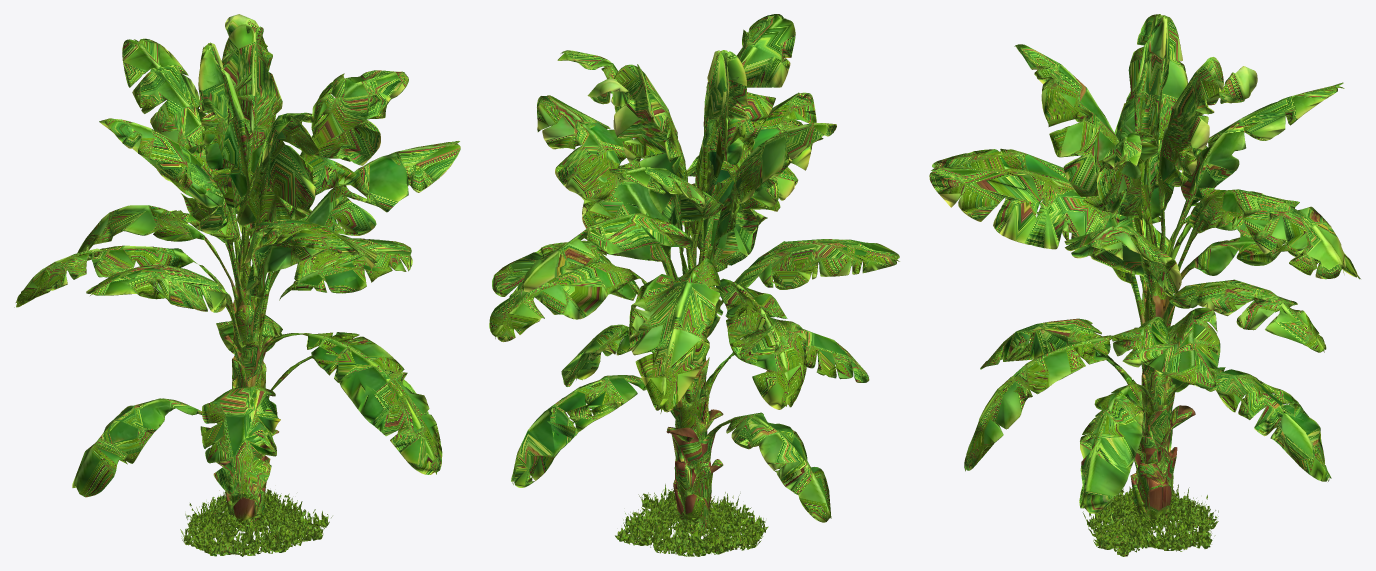
File: pisang-hq.glb
3 renders of one model, left to right at view 1: azimuth 30°, elevation 25°; view 2: azimuth 150°, elevation 25°; view 3: azimuth 270°, elevation 25°, orthographic.
Size of the model in its own units: 1.48 by 1.9 by 1.51.
1 material, 1 textured.
